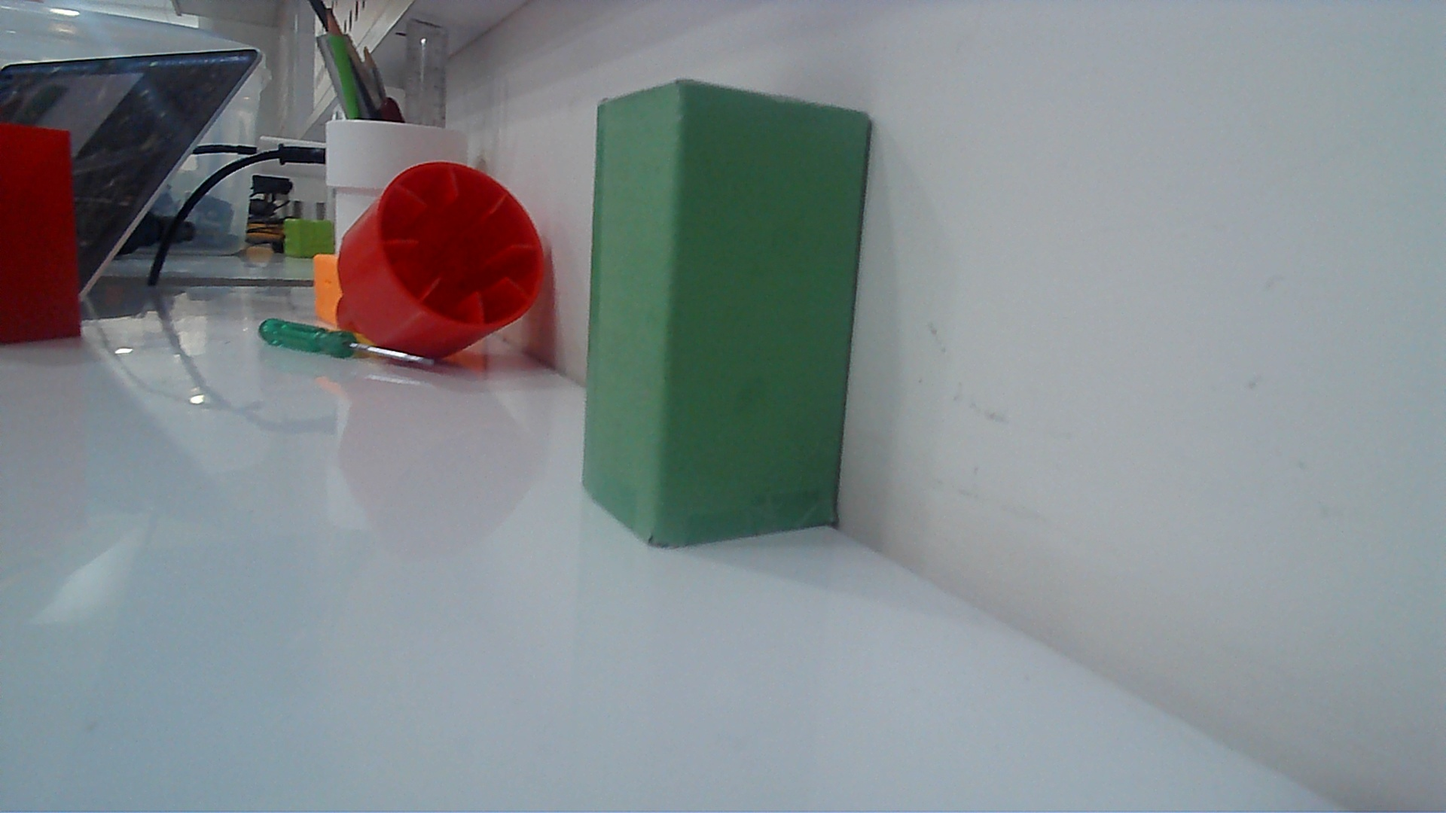green: (566, 61, 886, 572)
